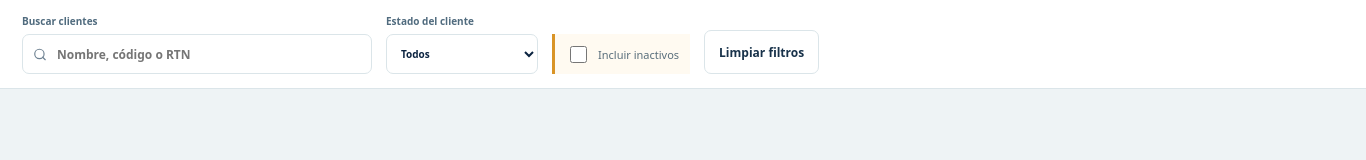
Test: ClientFilters › limpiar antes de 300 ms descarta la búsqueda local pendiente
In the search field labelled "Buscar clientes": (208, 54) x1=55 y1=44 x2=361 y2=64, type "Temporal"
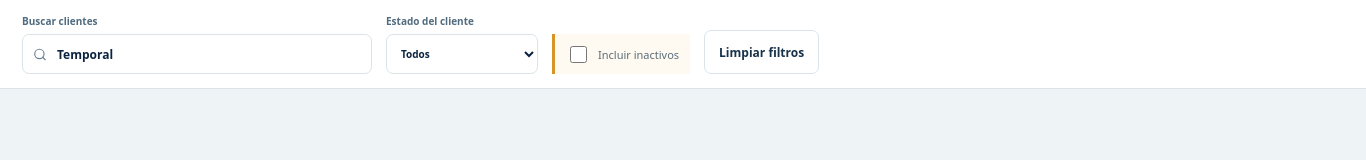
Click the button "Limpiar filtros": (762, 52) x1=704 y1=30 x2=819 y2=74
Wait 300 ms
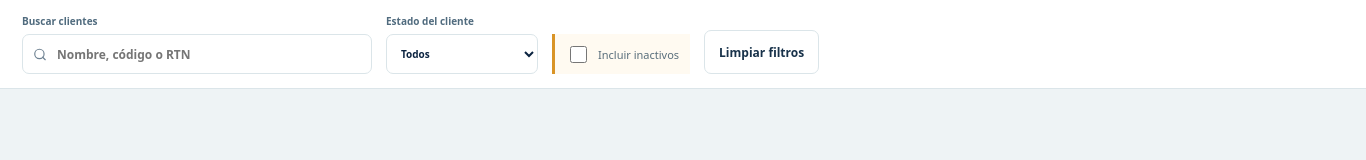
expect the search field labelled "Buscar clientes" is empty: met, box x1=55 y1=44 x2=361 y2=64
